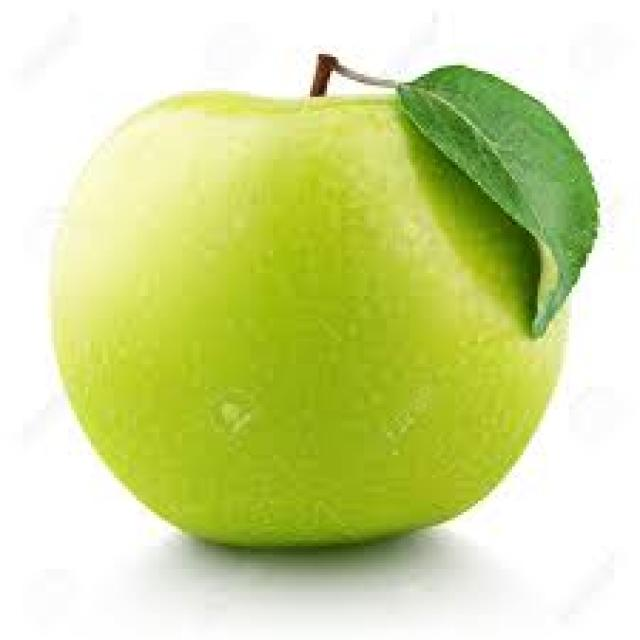50-_ripeness: (34, 55, 592, 563)
